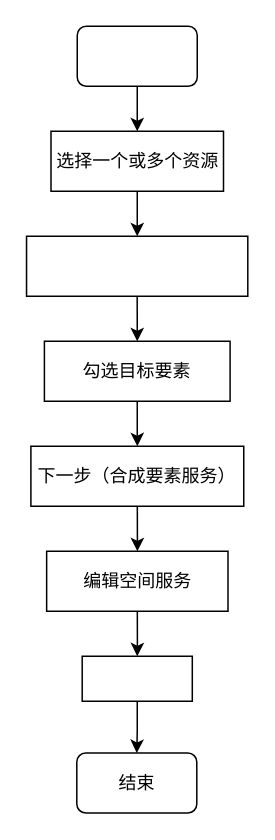
Some shapes in this 275 by 840 pixel diagram are drawn without their labels. Here are the shapes that lost their labels. From the top down, the centre of each, then its label:
the point at 136,55: 开始
the point at 136,265: 根据条件查询要素列表
the point at 136,678: 确定
